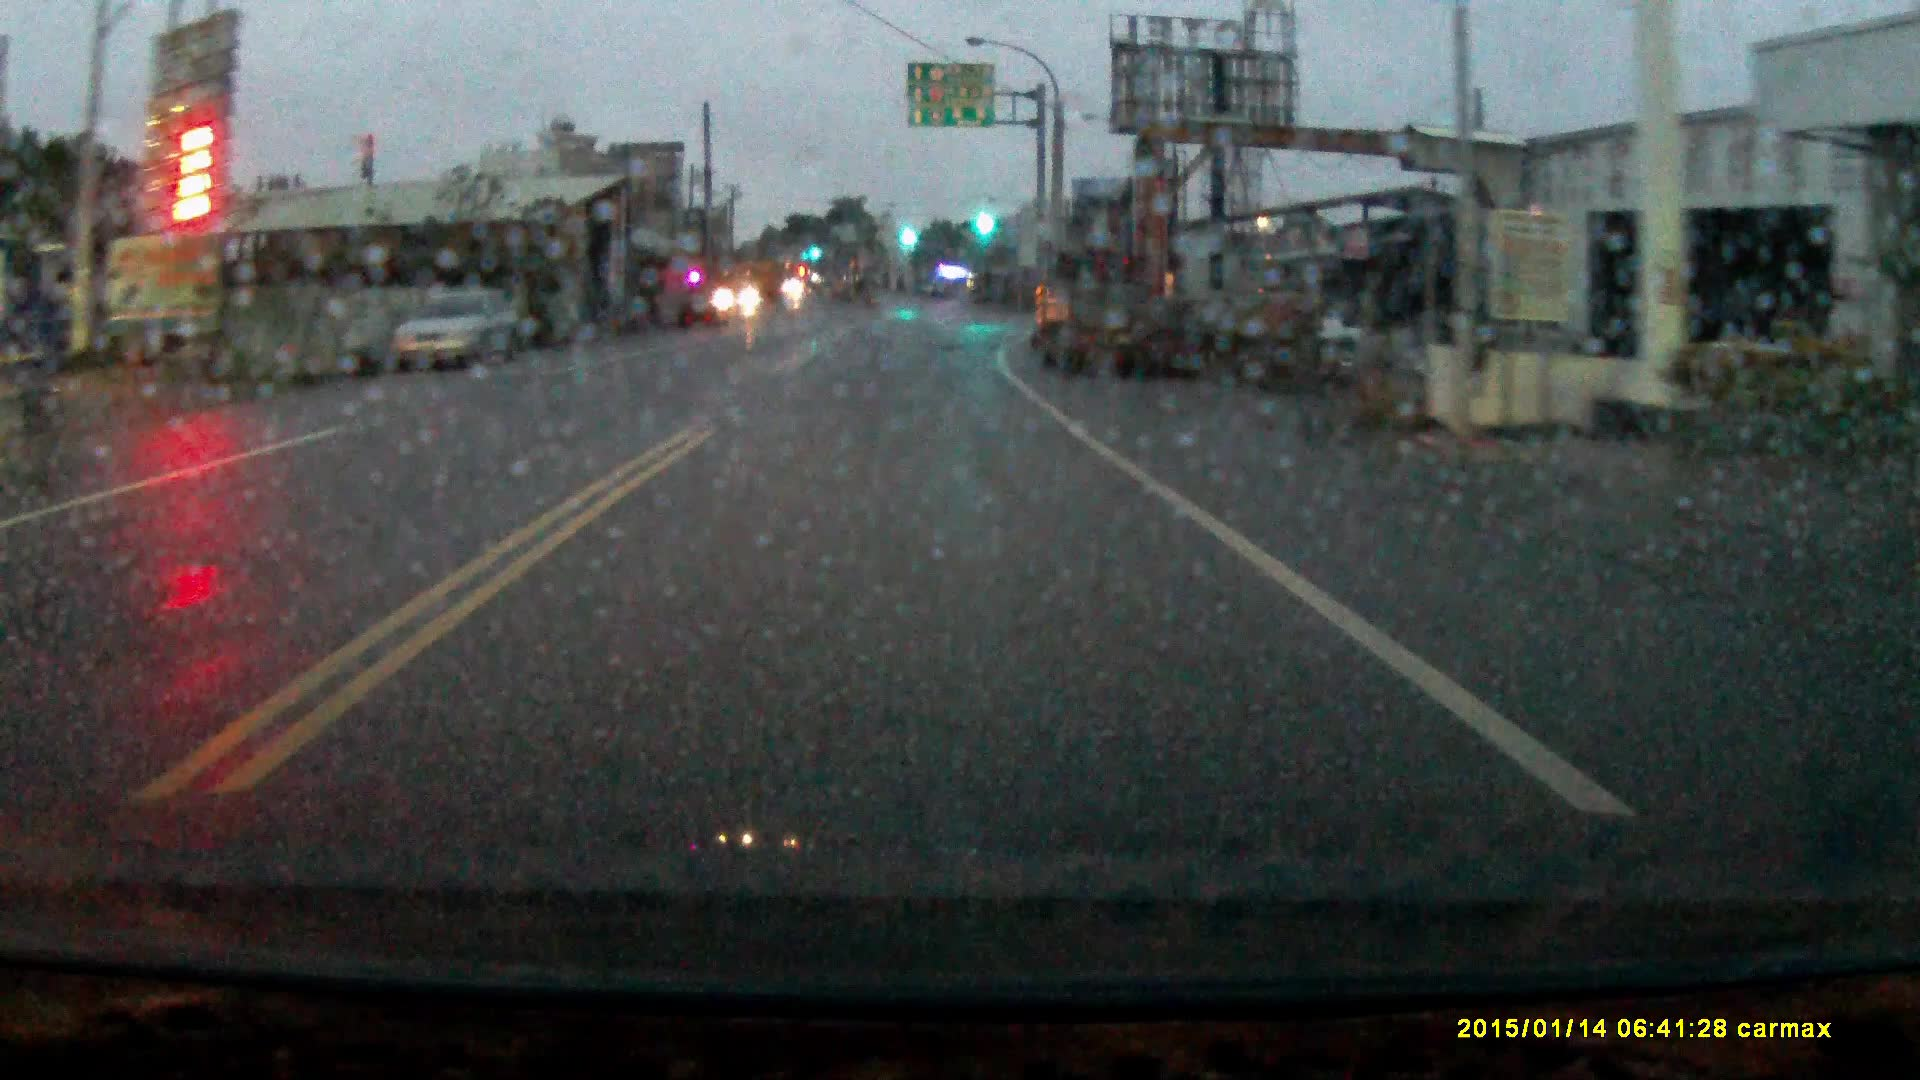rider: (1, 255, 91, 512)
vehicle: (1033, 256, 1161, 385), (387, 294, 524, 373), (710, 260, 783, 322)
